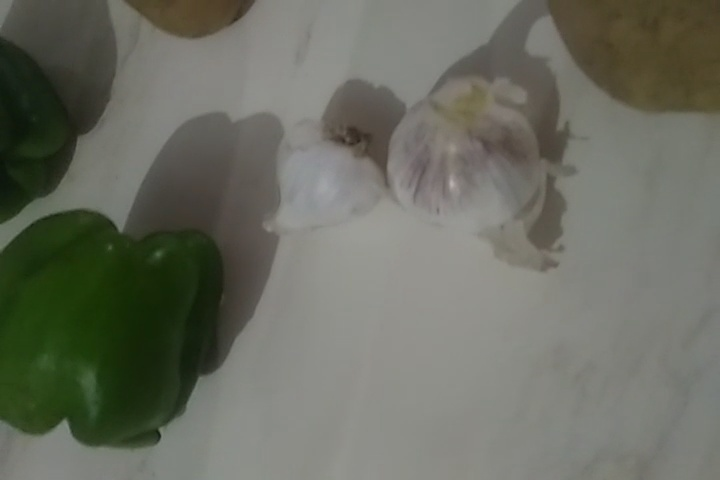capsicum: (1, 199, 213, 449), (1, 34, 66, 214)
garlic: (397, 87, 552, 251), (260, 122, 358, 234)
potato: (531, 2, 720, 125), (106, 1, 243, 41)
